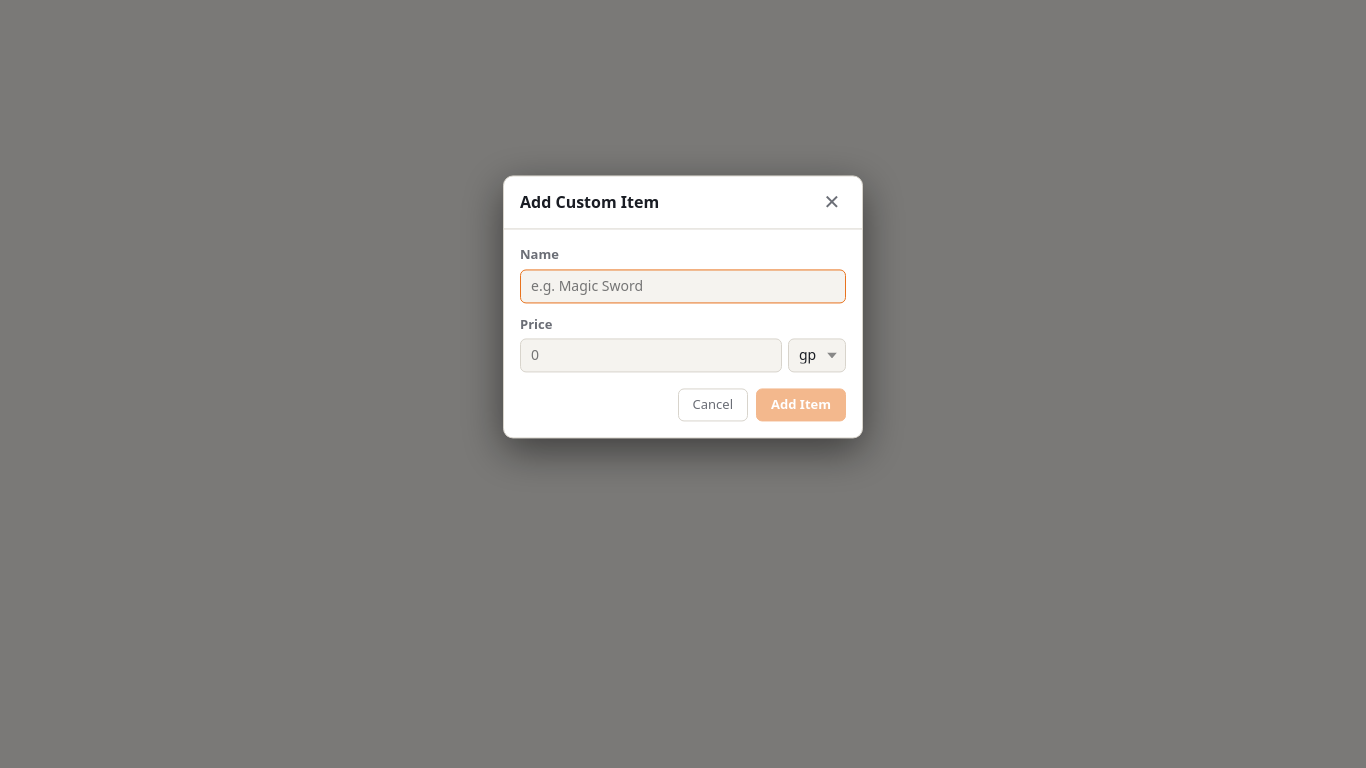
Scenario: AddCustomItemModal › enables the Add button when name is provided
Type "Magic Sword" into the field labelled "Name".
click(683, 286); type("Magic Sword")  # box left=520, top=269, right=846, bottom=303
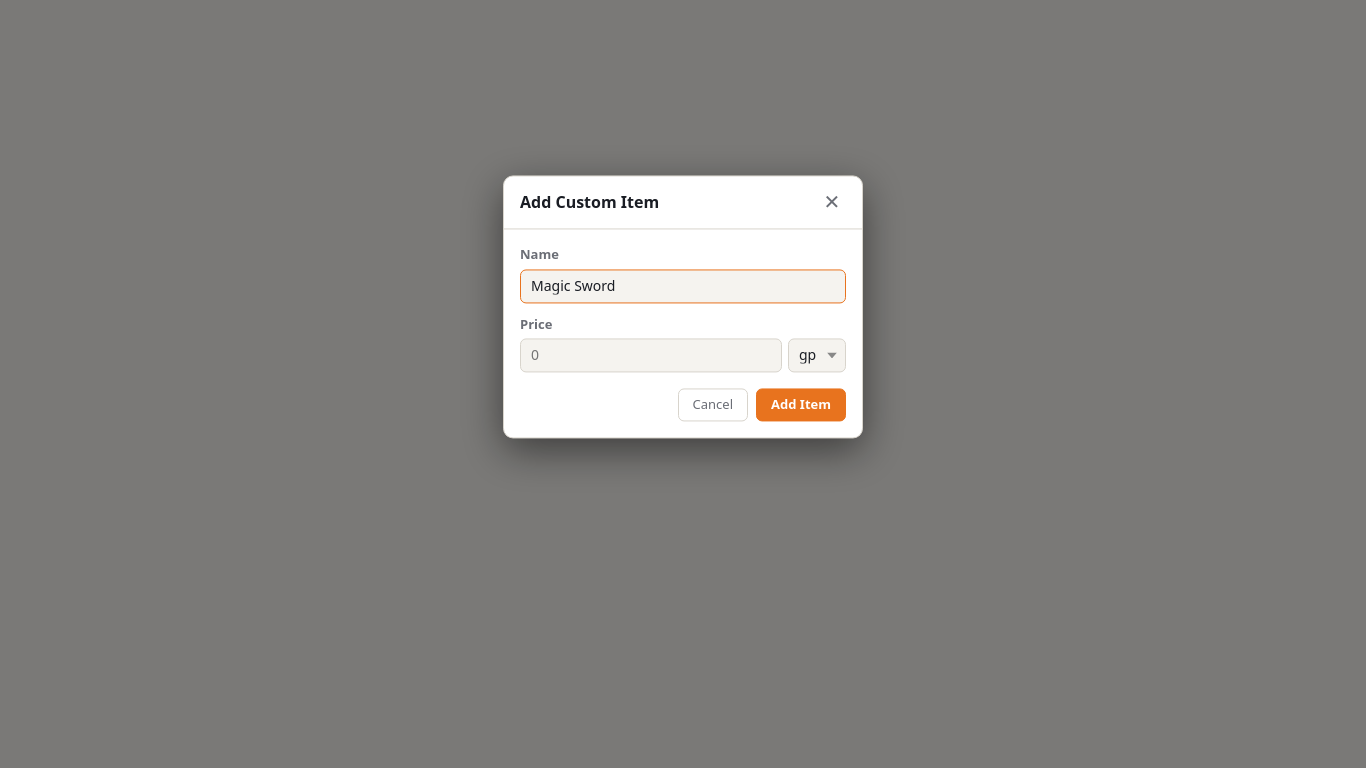
Expected: the button "Add Item" is enabled, left=756, top=389, right=846, bottom=422
